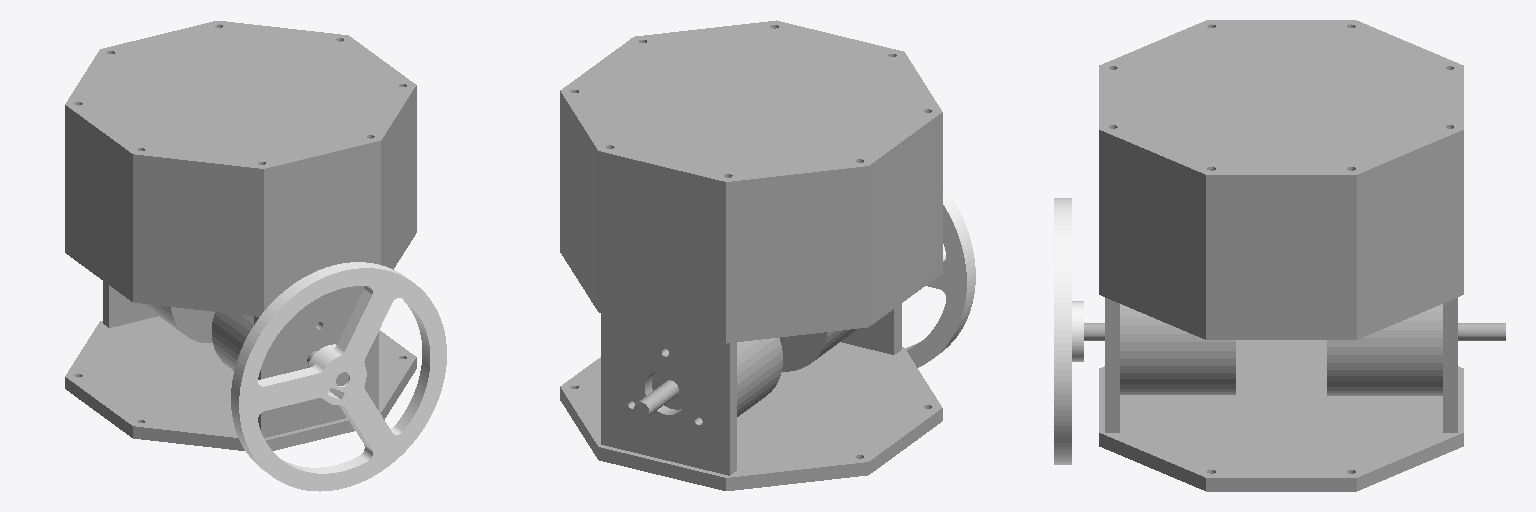
robot.urdf — Self_Balancing_Robot:
<?xml version="1.0"?>
<robot name="Self_Balancing_Robot">
  <!-- Chassis -->
  <link name="Chassis">
    <visual>
      <geometry>
        <mesh filename="meshes/Robot_V3.dae" />
      </geometry>
      <origin xyz="0 0 0.0" rpy="0 0 0"/> 
      <material name="ChassisMaterial">
        <color rgba="0.75 0.75 0.75 1"/>  <!-- Warna abu-abu untuk chassis -->
      </material>
    </visual>
    <collision>
      <geometry>
        <mesh filename="meshes/Robot_V3.dae" />
      </geometry>
      <origin xyz="0 0 0.0" rpy="0 0 0"/> 
    </collision>
    <inertial>
      <origin xyz="0 0 0.07" rpy="0 0 0"/>
      <mass value="0.478"/>
      <inertia ixx="0.01" ixy="0" ixz="0" iyy="0.0013" iyz="0" izz="0.0001"/>
    </inertial>
  </link>

  <!-- Left Wheel -->
  <link name="Left_Wheel">
    <visual>
      <geometry>
        <mesh filename="meshes/wheel_left.dae"  />
      </geometry>
      <origin xyz="0 0.0 0.0" rpy="0 0 -1.5708"/> 
      <material name="WheelMaterial">
        <color rgba="1 0 0 1"/>  <!-- Warna merah untuk roda Kiri -->
      </material>
    </visual>
    <collision>
      <geometry>
        <mesh filename="meshes/wheel_left.dae"  />
      </geometry>
      <origin xyz="0 0.0 0.0" rpy="0 0 -1.5708"/> 
    </collision>
    <inertial>
      <origin xyz="0 0.0 0.0" rpy="0 0 0"/>
      <mass value="0.015"/>
      <inertia ixx="0.00" ixy="0" ixz="0" iyy="0.000" iyz="0" izz="0.00"/>
    </inertial>
  </link>

  <!-- Right Wheel -->
  <link name="Right_Wheel">
    <visual>
      <geometry>
        <mesh filename="meshes/wheel_right.dae" />
      </geometry>
      <origin xyz="0 0.0 0.0" rpy="0 0 1.5708"/>  
      <material name="Wheel_R_Material">
        <color rgba="1 1 1 1"/>  <!-- Warna putih untuk roda Kanan-->
      </material>
    </visual>
    <collision>
      <geometry>
        <mesh filename="meshes/wheel_right.dae" />
      </geometry>
      <origin xyz="0 0.0 0.0" rpy="0 0 1.5708"/> 
    </collision>
    <inertial>
      <origin xyz="0 0.0 0.00" rpy="0 0 0"/>
      <mass value="0.015"/>
      <inertia ixx="0.00" ixy="0" ixz="0" iyy="0.00" iyz="0" izz="0.00"/>
    </inertial>
  </link>


  <!-- Left Wheel Joint -->
  <joint name="left_wheel_joint" type="continuous">
    <parent link="Chassis"/>
    <child link="Left_Wheel"/>
    <origin xyz="0.0 0.075 0.030" rpy="0 0 0"/>
    <limit effort="0.05" velocity="1000"/> <!--effort = force-->
    <axis xyz="0 1 0"/>
  </joint>

  <!-- Right Wheel Joint -->
  <joint name="right_wheel_joint" type="continuous">
    <parent link="Chassis"/>
    <child link="Right_Wheel"/>
    <origin xyz="0.0 -0.075 0.030" rpy="0 0 0"/>
    <limit effort="0.05" velocity="1000"/> <!--efort = force-->
    <axis xyz="0 1 0"/>
  </joint>

</robot>

--- Render facts (derived) ---
3 views of the same robot in one strip: view 1: azimuth 30°, elevation 25°; view 2: azimuth 150°, elevation 25°; view 3: azimuth 270°, elevation 25° (orthographic).
Model Self_Balancing_Robot with 3 links and 2 joints (2 continuous), rooted at Chassis, posed every joint at zero.
Visible links, largest first — view 1: Chassis, Right_Wheel; view 2: Chassis, Right_Wheel; view 3: Chassis, Right_Wheel.
Link boxes in pixels (box(x1,y1,x2,y2)): Chassis: box(65, 21, 416, 450); Right_Wheel: box(231, 262, 446, 491); Chassis: box(560, 20, 942, 490); Right_Wheel: box(905, 185, 975, 367); Chassis: box(1084, 20, 1505, 491); Right_Wheel: box(1054, 198, 1083, 464).
Size in the robot's own frame: 0.1201 by 0.149 by 0.129 metres.
2 mesh visuals loaded from 3 distinct referenced files (2 Collada DAE); not drawn: 1 (reference not matched to a file when rendering).
